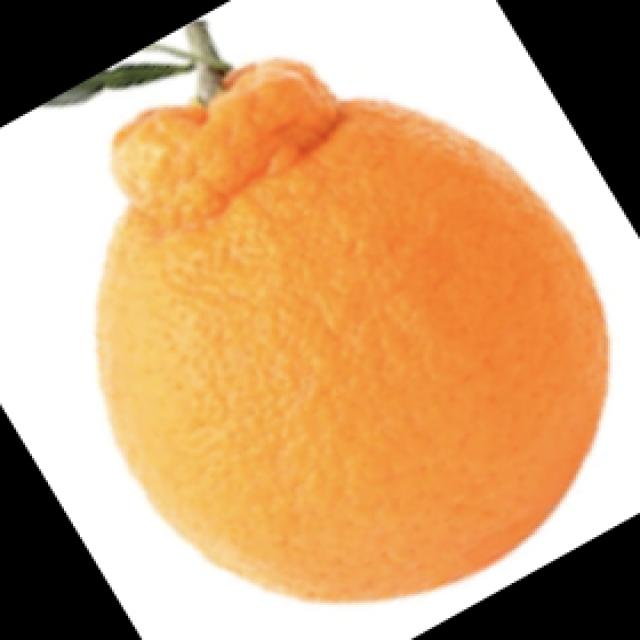fresh: (51, 26, 625, 612)
